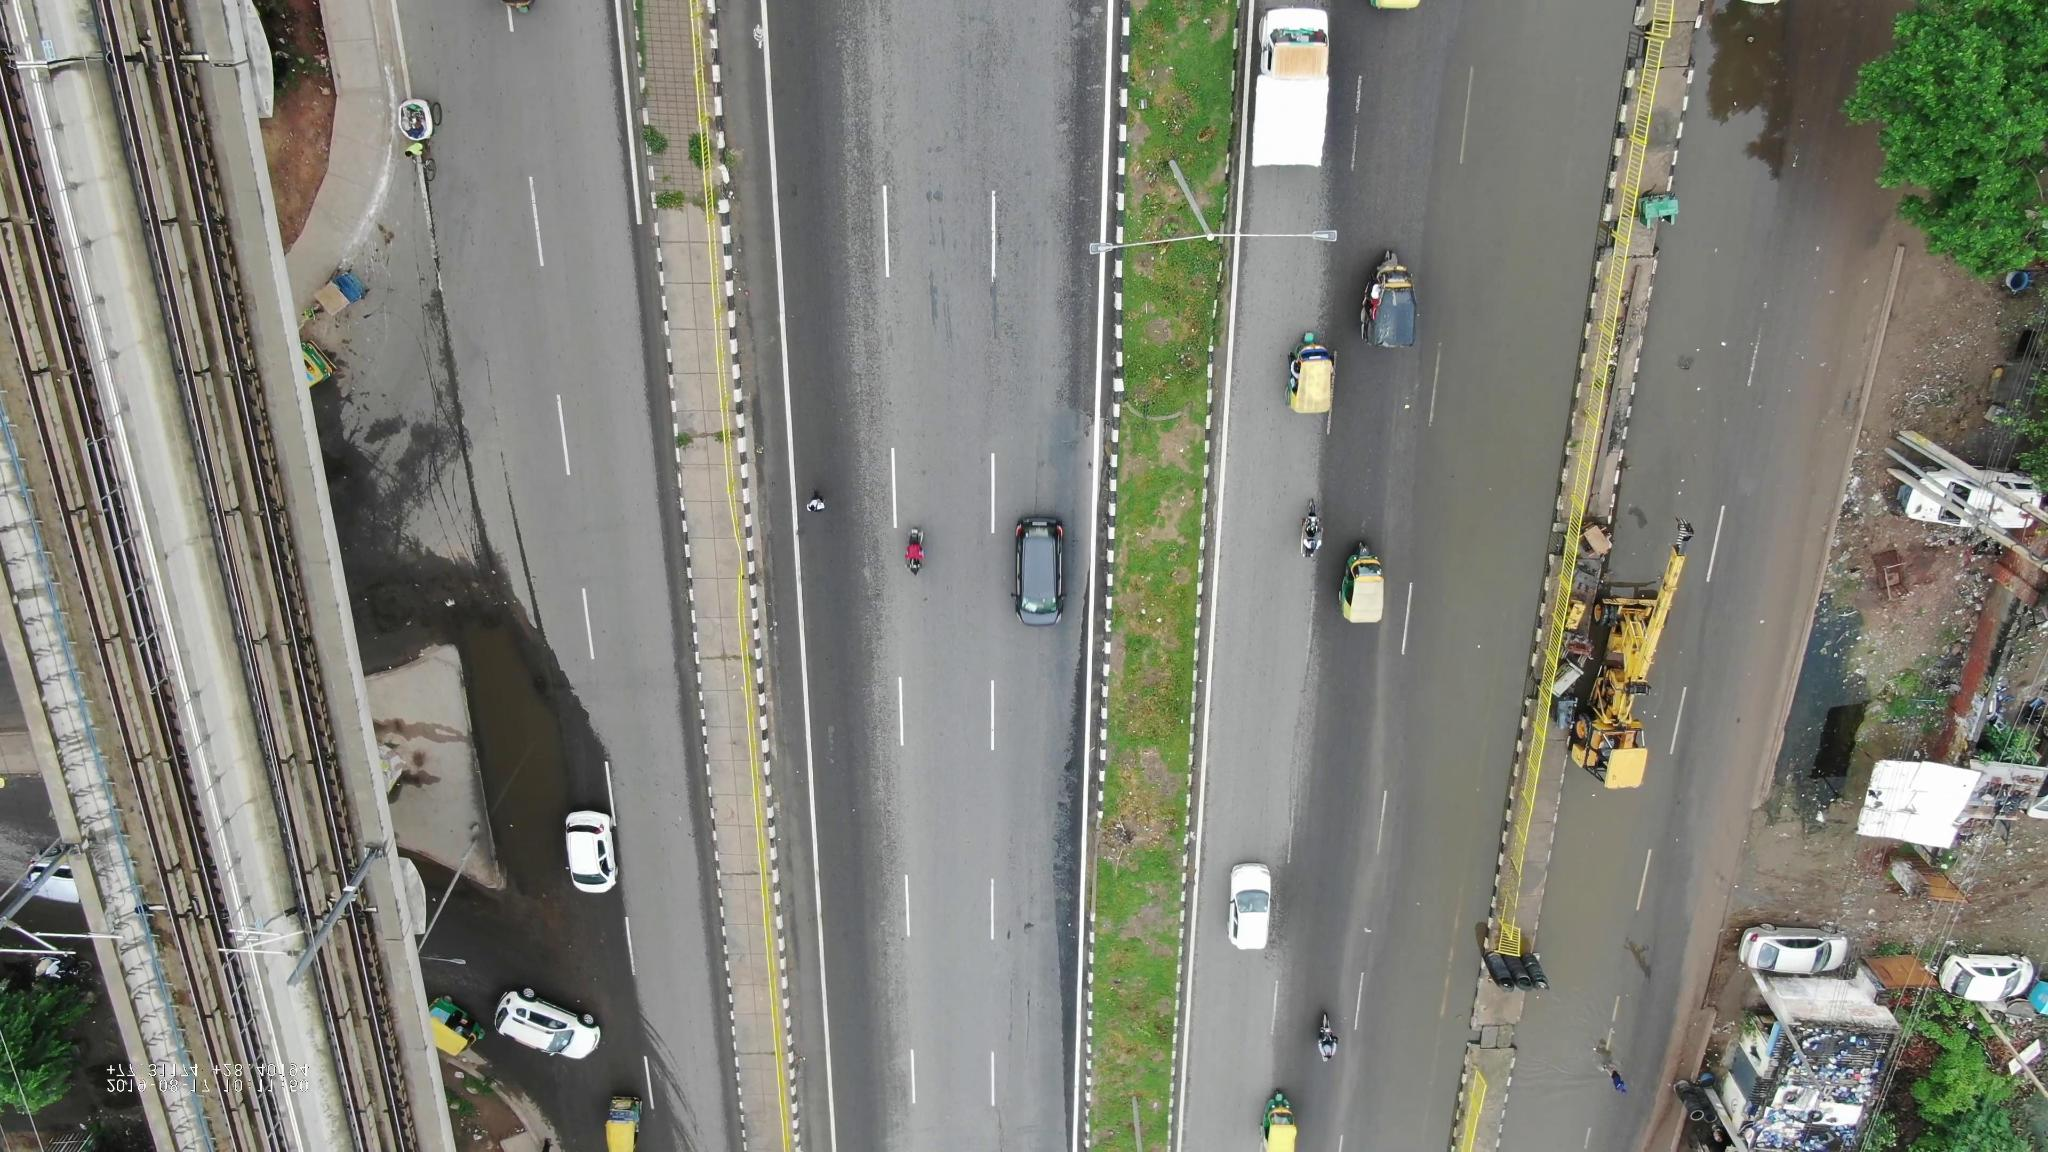Waterlogging: (1613, 105, 1791, 501), (1416, 246, 1601, 532), (1378, 625, 1532, 895), (1511, 805, 1651, 1093), (443, 605, 587, 871)
